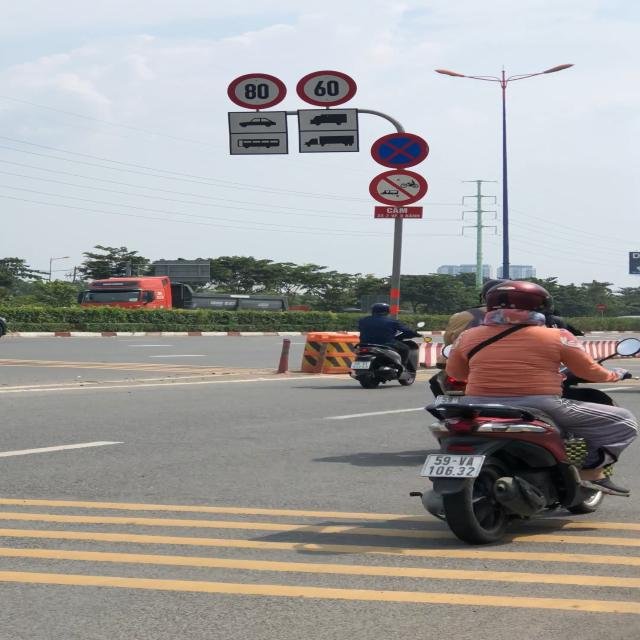Bien bao cam dung xe va do xe: (368, 131, 434, 169)
Bien bao toc do toi da cho phep: (294, 68, 362, 108), (221, 71, 287, 109)
